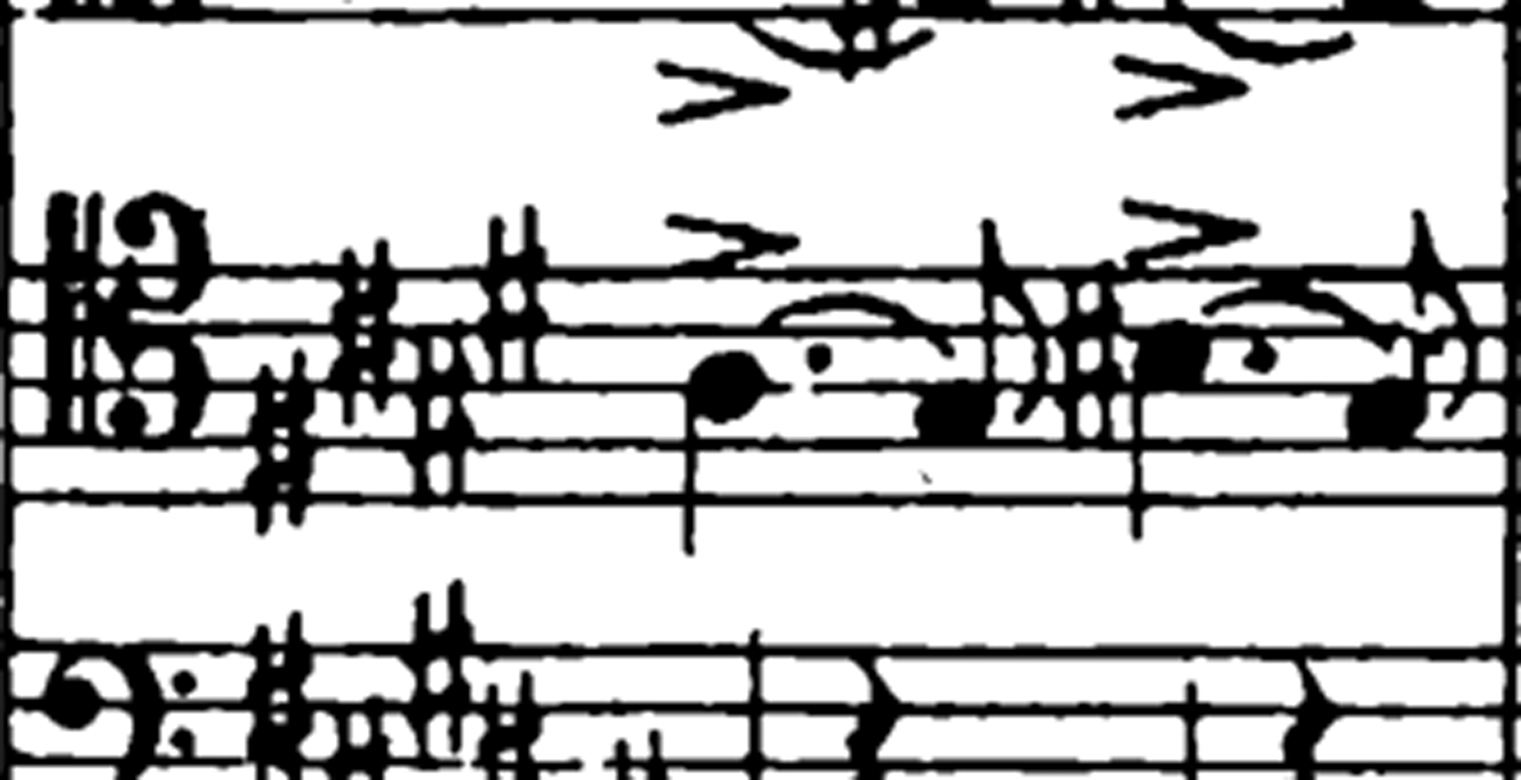beam: (657, 66, 791, 127), (1113, 54, 1249, 104), (664, 213, 799, 250)
clefCTenor: (29, 168, 224, 466)
noteheadBlackInSpace: (681, 352, 761, 398)
restHBar: (35, 232, 1108, 314), (0, 613, 1122, 691), (5, 0, 1110, 50)
